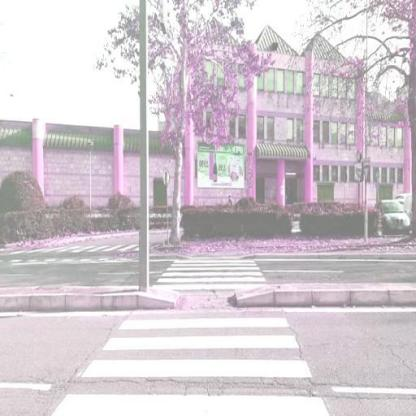crosswalk: (80, 330, 316, 385), (155, 272, 269, 284)
